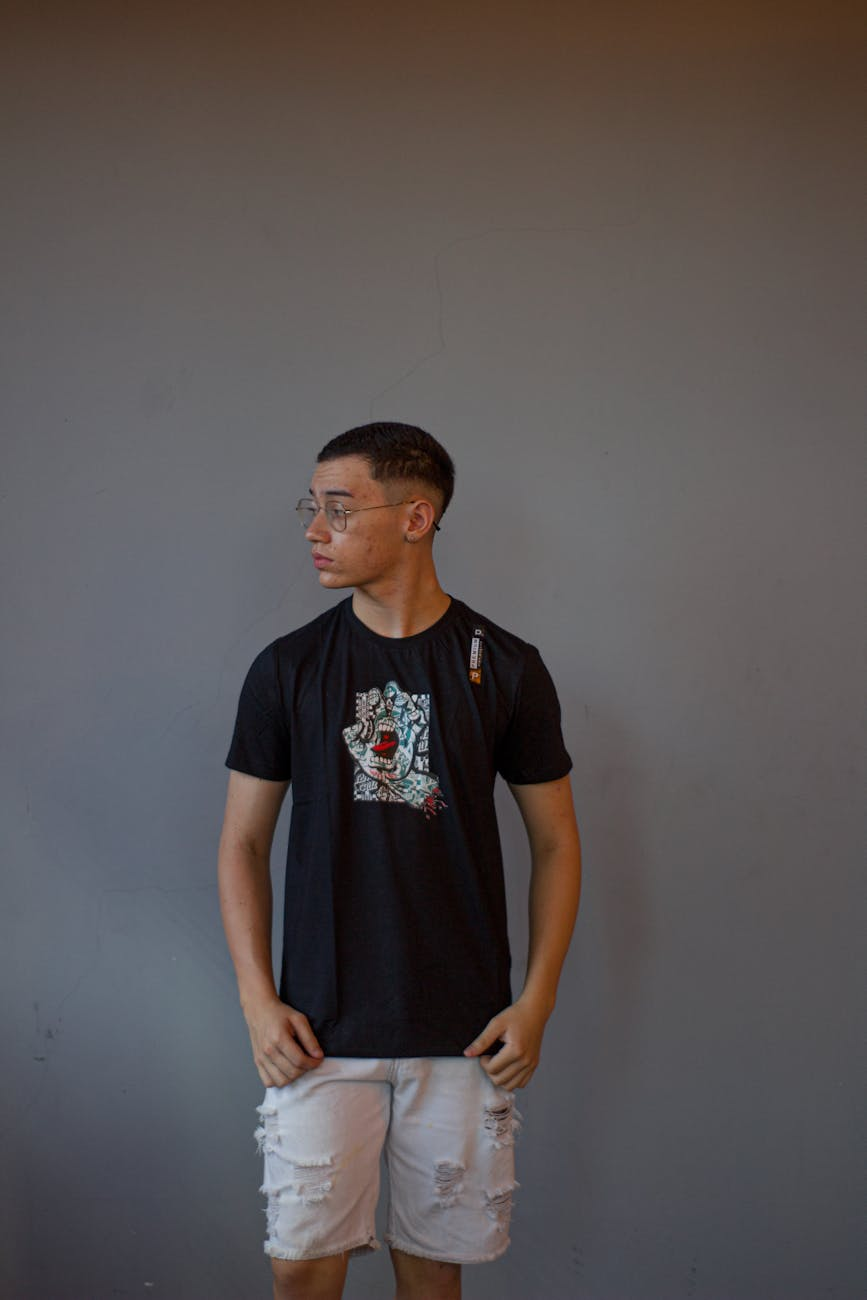shorts: (241, 1024, 536, 1266)
